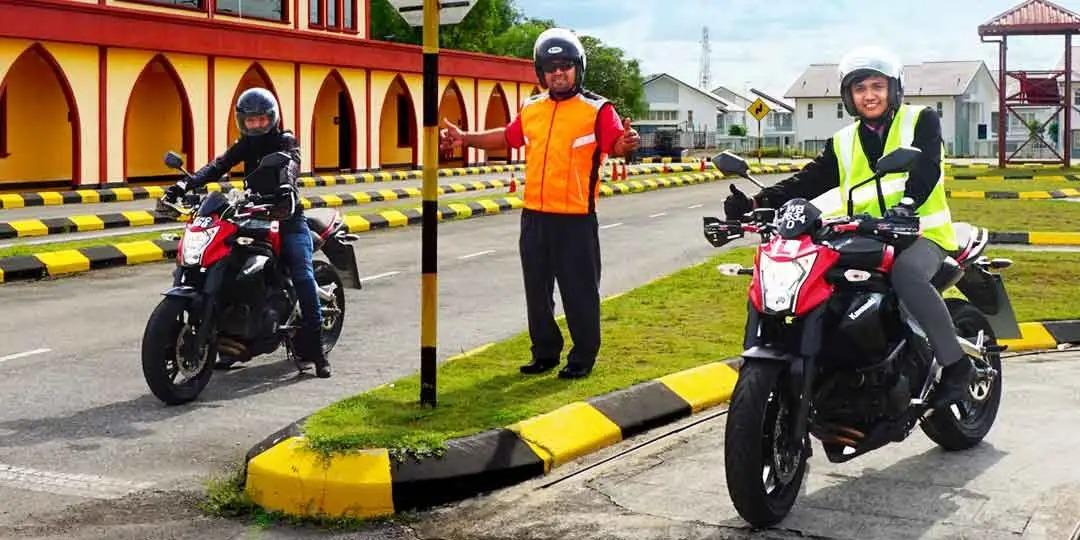helmet: (838, 45, 905, 118), (533, 28, 587, 91), (234, 87, 281, 146)
